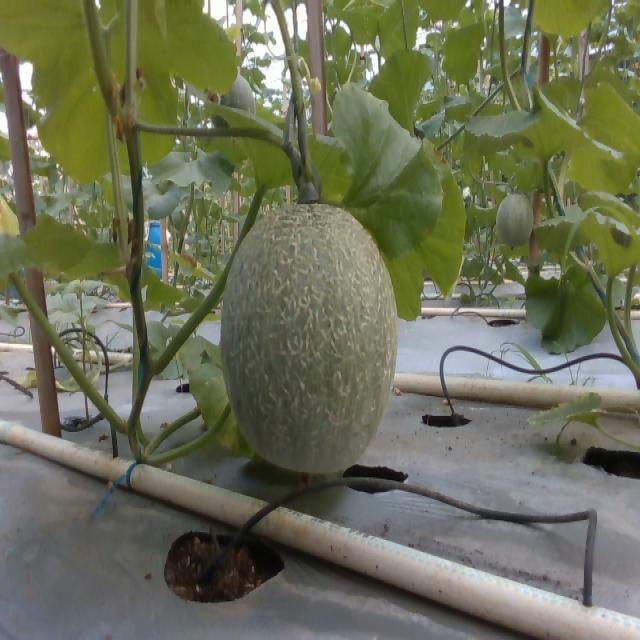melon: (222, 204, 397, 474)
